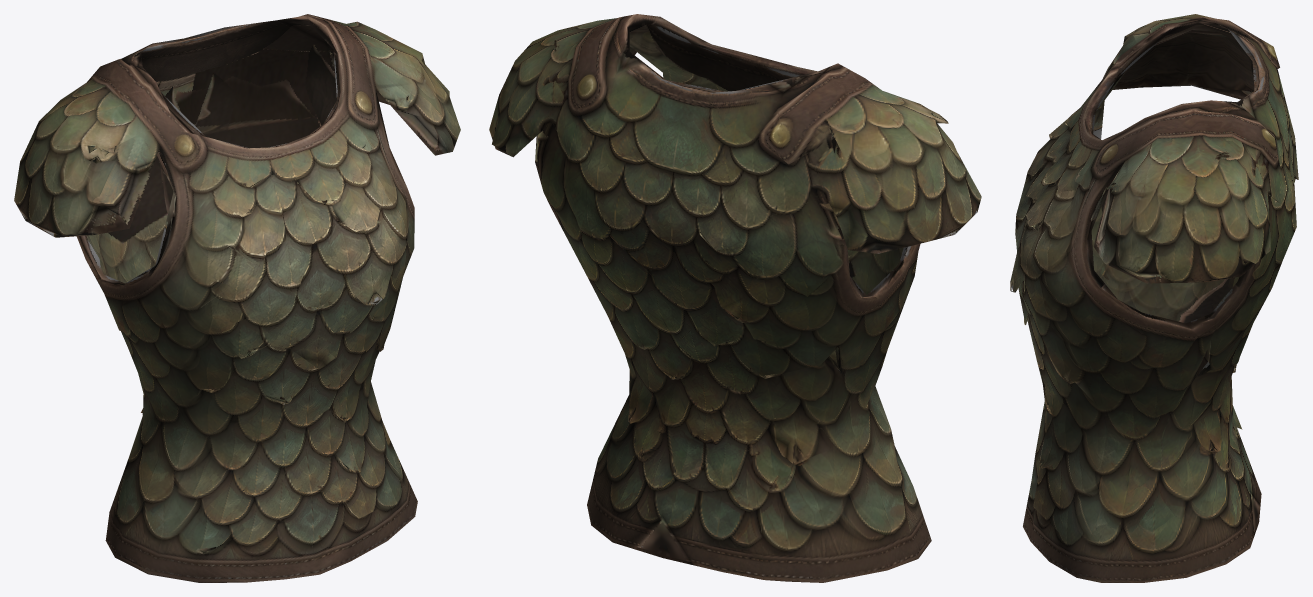
File: Prop_Armor_Scale.fbx
The picture shows the model from 3 angles, left to right: view 1: azimuth 30°, elevation 25°; view 2: azimuth 150°, elevation 25°; view 3: azimuth 270°, elevation 25°; orthographic projection. The views are drawn at different scales.
Parts seen in each view (by area): view 1: texture_mapping; view 2: texture_mapping; view 3: texture_mapping.
Boxes of the visible parts, x1,y1,x2,y2 form: texture_mapping: (14, 14, 460, 582); texture_mapping: (489, 14, 981, 582); texture_mapping: (1010, 14, 1298, 582).
Bounding box in the file's own units: 0.935 × 0.5622 × 1.
Materials: 1 (1 with a texture image).
